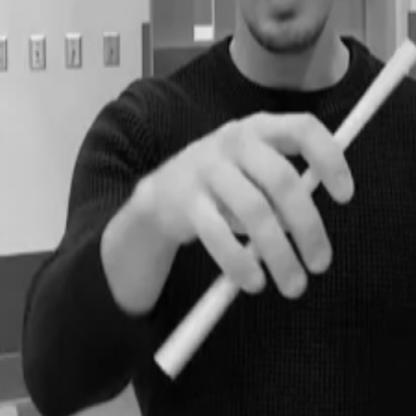good: (164, 77, 384, 314)
